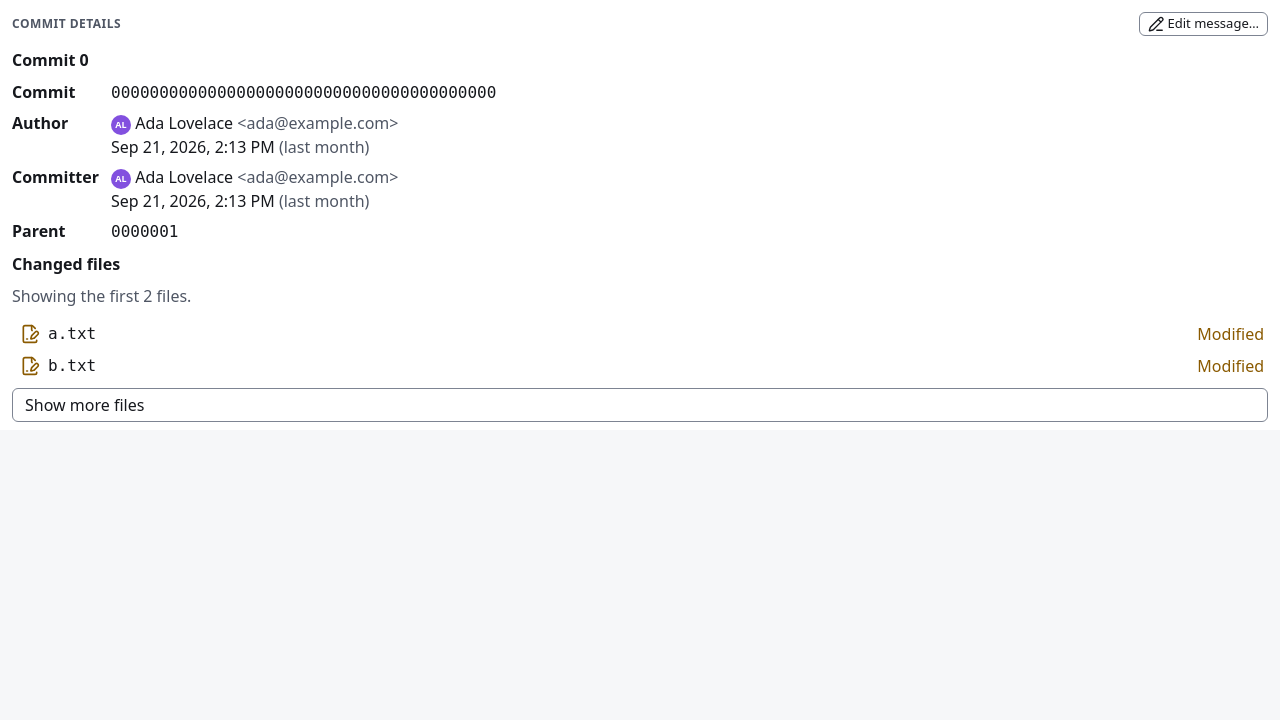
a long list of changed files comes a page at a time, and focus stays in it at the end
Expected: the text "Showing the first 2 files." is shown, 12,285 -> 191,307
Click the button "Show more files" at (85, 405), box 12,388 -> 1268,422
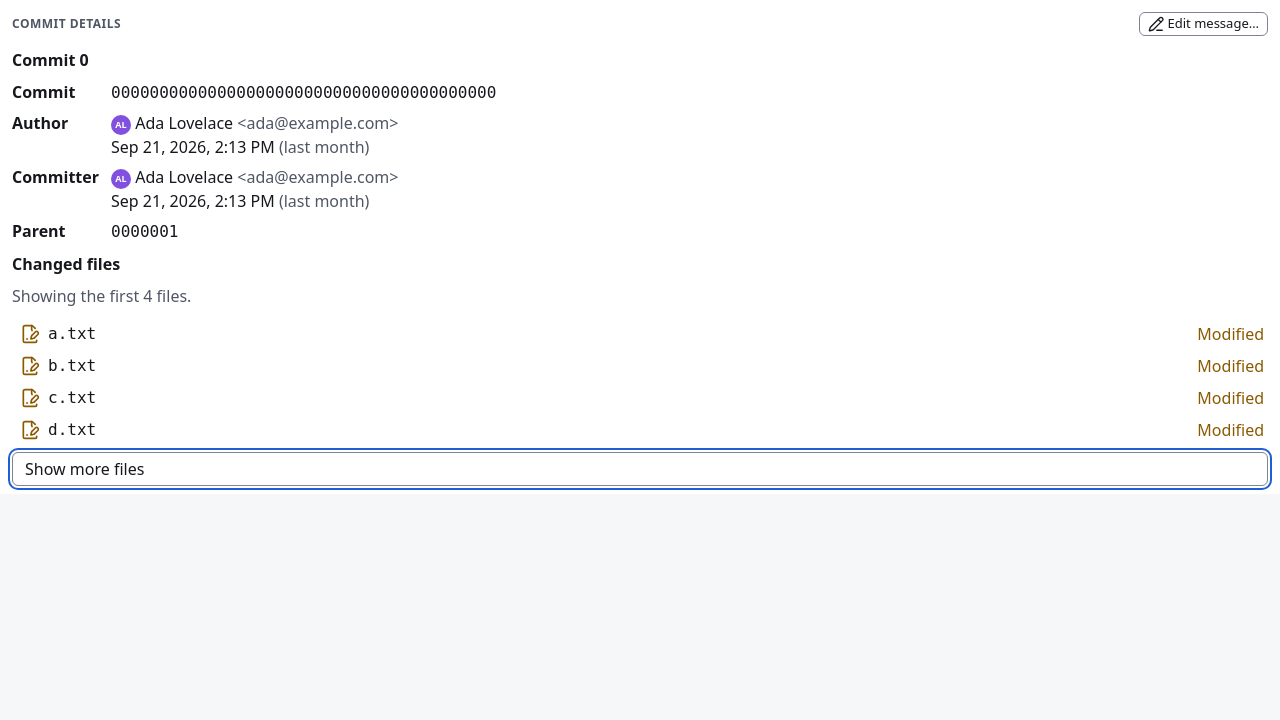
Expected: the text "Showing the first 4 files." is shown, 12,285 -> 191,307
Click the button "Show more files" at (85, 469), box 12,452 -> 1268,486
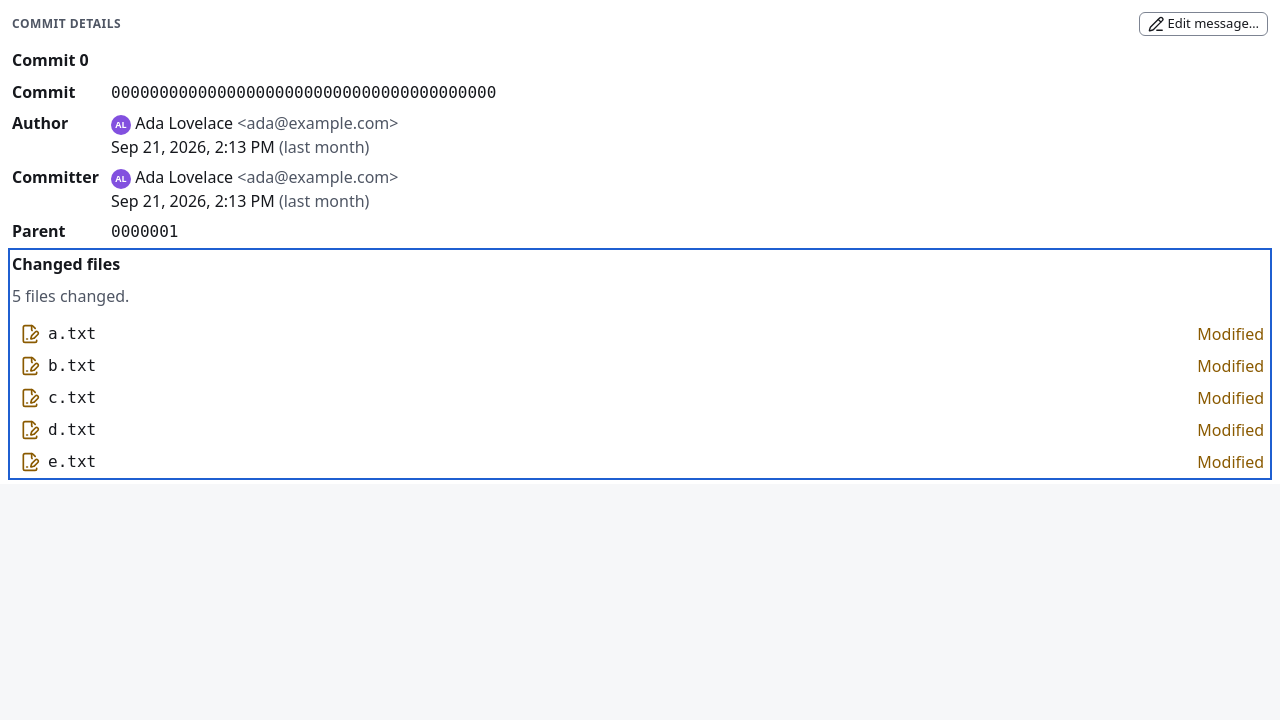
Expected: the text "5 files changed." is shown, 12,285 -> 129,307
Expected: the button "Show more files" is gone
